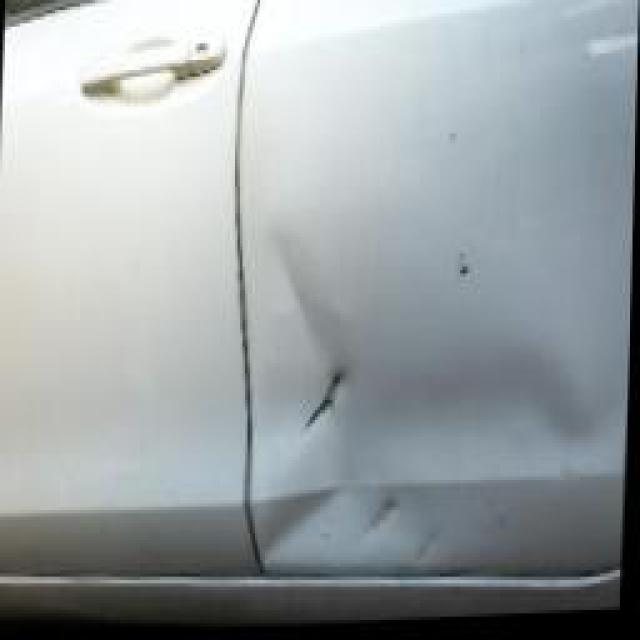Door: (250, 173, 487, 609)
